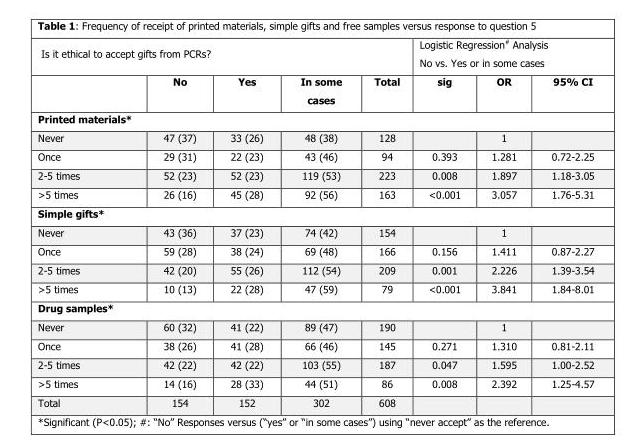table: (37, 36, 593, 408)
table column: (120, 36, 212, 408), (37, 36, 120, 408), (281, 36, 357, 408), (212, 36, 281, 408), (409, 36, 475, 408), (533, 36, 593, 408), (475, 36, 533, 408), (357, 36, 409, 408)
table column header: (37, 36, 593, 108)
table projected row header: (37, 108, 593, 127), (37, 203, 593, 222), (37, 297, 593, 316)
table row: (37, 71, 593, 108), (37, 36, 593, 71), (37, 108, 593, 127), (37, 127, 593, 146), (37, 146, 593, 165), (37, 165, 593, 184), (37, 184, 593, 203), (37, 203, 593, 222), (37, 222, 593, 241), (37, 241, 593, 260), (37, 278, 593, 297), (37, 297, 593, 316), (37, 316, 593, 335), (37, 335, 593, 354), (37, 354, 593, 373), (37, 373, 593, 392), (37, 260, 593, 278), (37, 392, 593, 408)
table spanning cell: (37, 36, 409, 71), (409, 36, 593, 71)
